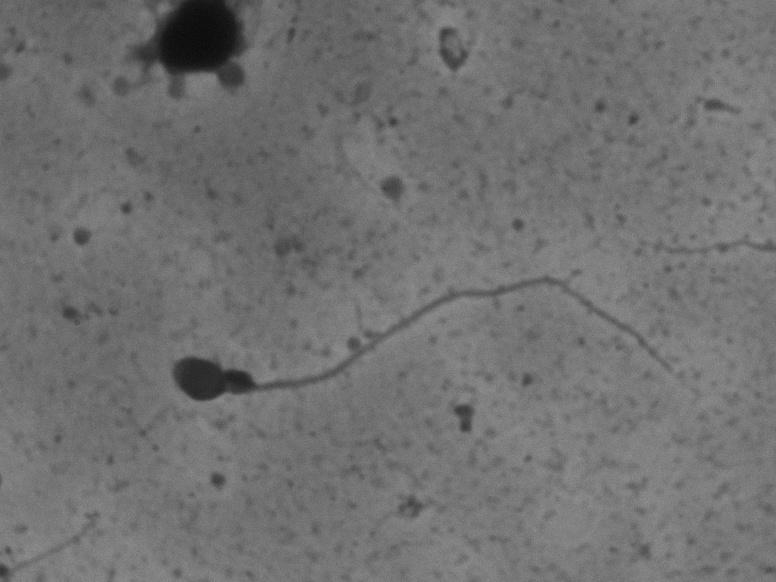Abnormal: (134, 232, 697, 455)
